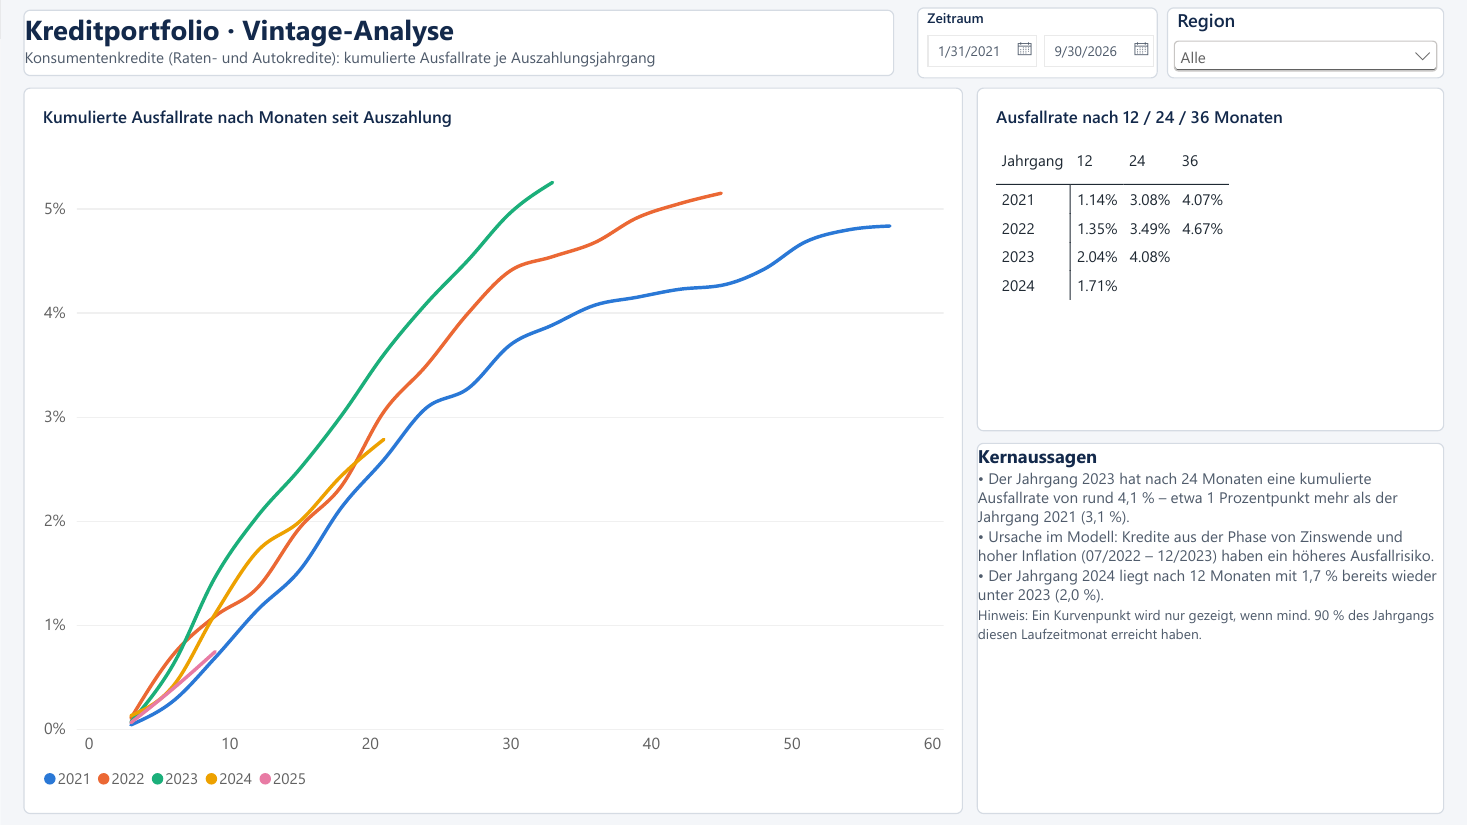

The page's visual inventory and layout, read from the dashboard file:
{"tool":"powerbi","page":{"name":"Vintage-Analyse","canvas":[1280,720],"ordinal":2},"visuals":[{"type":"textbox","box":[20,8,760,58],"z":1000},{"type":"slicer","fields":{"Values":["dim_datum.datum"]},"box":[800,6,210,62],"z":2000},{"type":"slicer","fields":{"Values":["dim_region.region"]},"box":[1018,6,242,62],"z":3000},{"type":"lineChart","title":"Kumulierte Ausfallrate nach Monaten seit Auszahlung","fields":{"Category":["fact_vintage.monate_seit_auszahlung"],"Y":["_Measures.Ausfallrate kumuliert"],"Series":["fact_vintage.jahrgang"]},"box":[20,76,820,634],"z":4000},{"type":"pivotTable","title":"Ausfallrate nach 12 / 24 / 36 Monaten","fields":{"Rows":["fact_vintage.jahrgang"],"Columns":["fact_vintage.monate_seit_auszahlung"],"Values":["_Measures.Ausfallrate kumuliert"]},"box":[852,76,408,300],"z":5000},{"type":"textbox","box":[852,386,408,324],"z":6000}]}

Visuals, with their boxes in screenshot pixels (x1, y1, x2, y2), scaled from the page's 1280x720 canvas onto the 1468x826 screenshot:
textbox: <box>23,9,895,76</box>
slicer - dim_datum.datum: <box>918,7,1158,78</box>
slicer - dim_region.region: <box>1168,7,1445,78</box>
"Kumulierte Ausfallrate nach Monaten seit Auszahlung" lineChart: <box>23,87,963,815</box>
"Ausfallrate nach 12 / 24 / 36 Monaten" pivotTable: <box>977,87,1445,431</box>
textbox: <box>977,443,1445,815</box>
